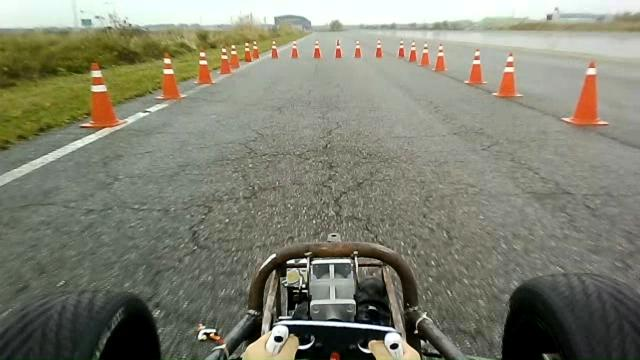red cone: (78, 62, 128, 128), (560, 60, 609, 126), (153, 52, 185, 101), (492, 51, 524, 98), (464, 48, 488, 85), (193, 49, 215, 85), (432, 42, 448, 72), (407, 40, 418, 63), (420, 41, 430, 66), (353, 39, 362, 58)
